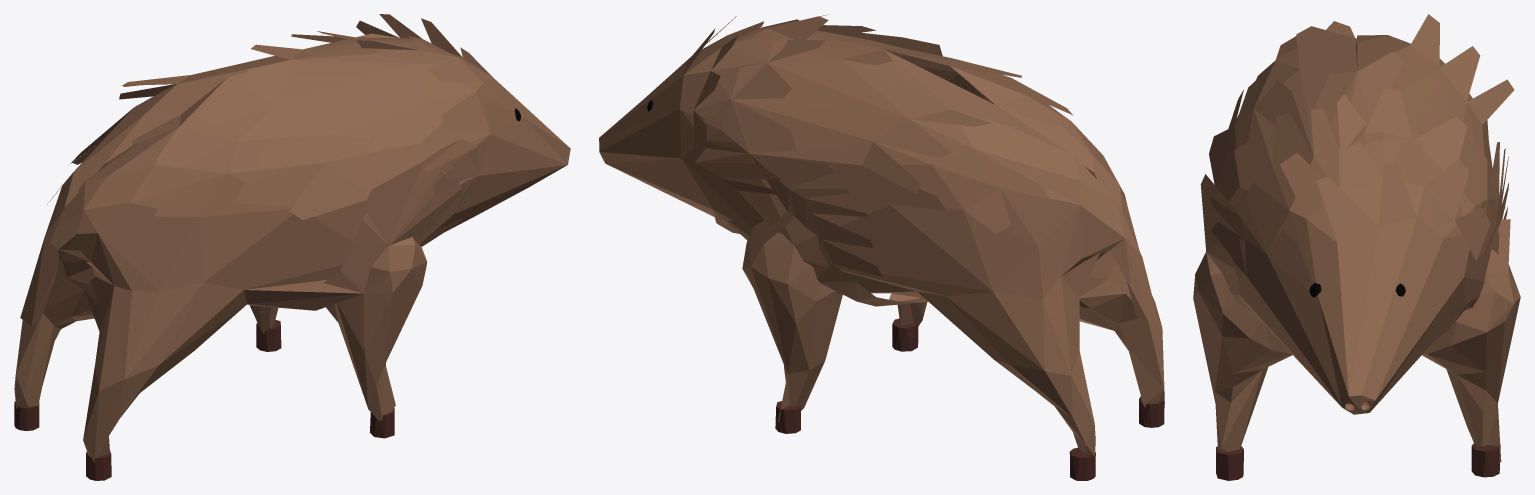
The model's file is Boar.fbx.
3 renders of one model, left to right at view 1: azimuth 30°, elevation 25°; view 2: azimuth 150°, elevation 25°; view 3: azimuth 270°, elevation 25°, orthographic. The views are drawn at different scales.
Parts seen in each view (by area): view 1: Boar, Cylinder; view 2: Boar, Cylinder; view 3: Boar, Cylinder.
Boxes of the visible parts, x1,y1,x2,y2 form: Boar: (14, 14, 570, 462); Cylinder: (14, 319, 394, 480); Boar: (599, 14, 1164, 456); Cylinder: (775, 318, 1164, 480); Boar: (1193, 14, 1520, 462); Cylinder: (1216, 443, 1500, 480).
Bounding box in the file's own units: 924 × 571 × 430.
